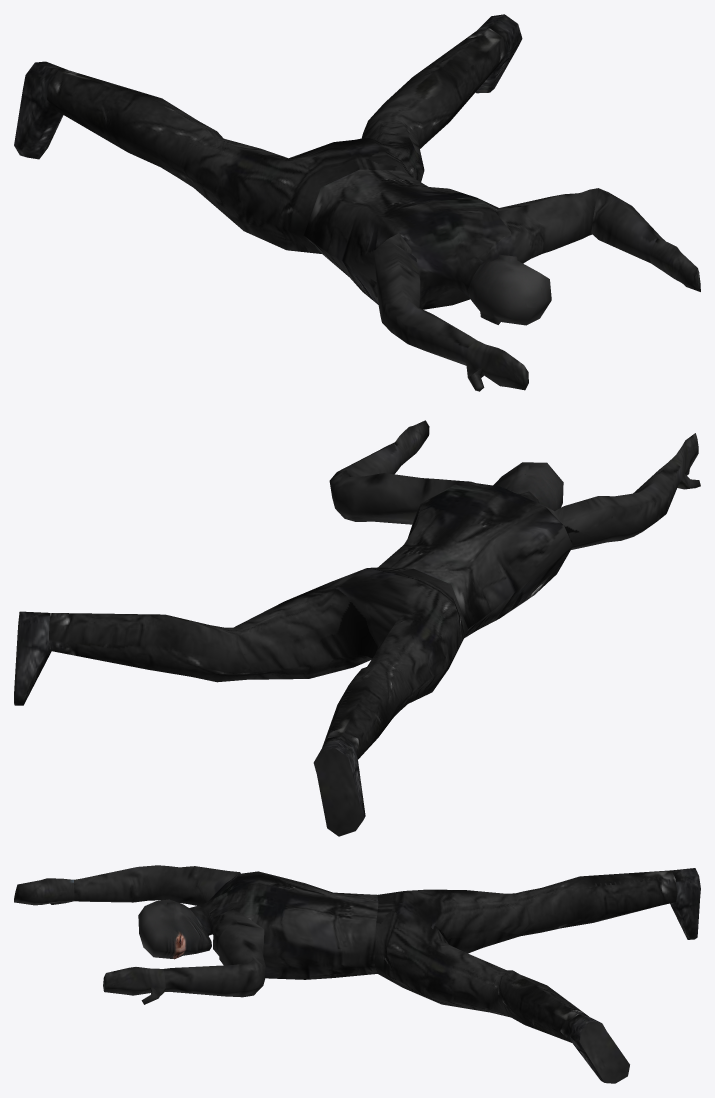
File: character_21_2.fbx
3 renders of one model, top to bottom at view 1: azimuth 30°, elevation 25°; view 2: azimuth 150°, elevation 25°; view 3: azimuth 270°, elevation 25°, orthographic. The views are drawn at different scales.
Parts seen in each view (by area): view 1: Character_21_Police; view 2: Character_21_Police; view 3: Character_21_Police.
Part boxes in pixels (<box>): Character_21_Police: <box>14,14,700,391</box>; Character_21_Police: <box>14,420,700,836</box>; Character_21_Police: <box>14,865,700,1083</box>.
Size of the model in its own units: 316 by 89.26 by 552.
